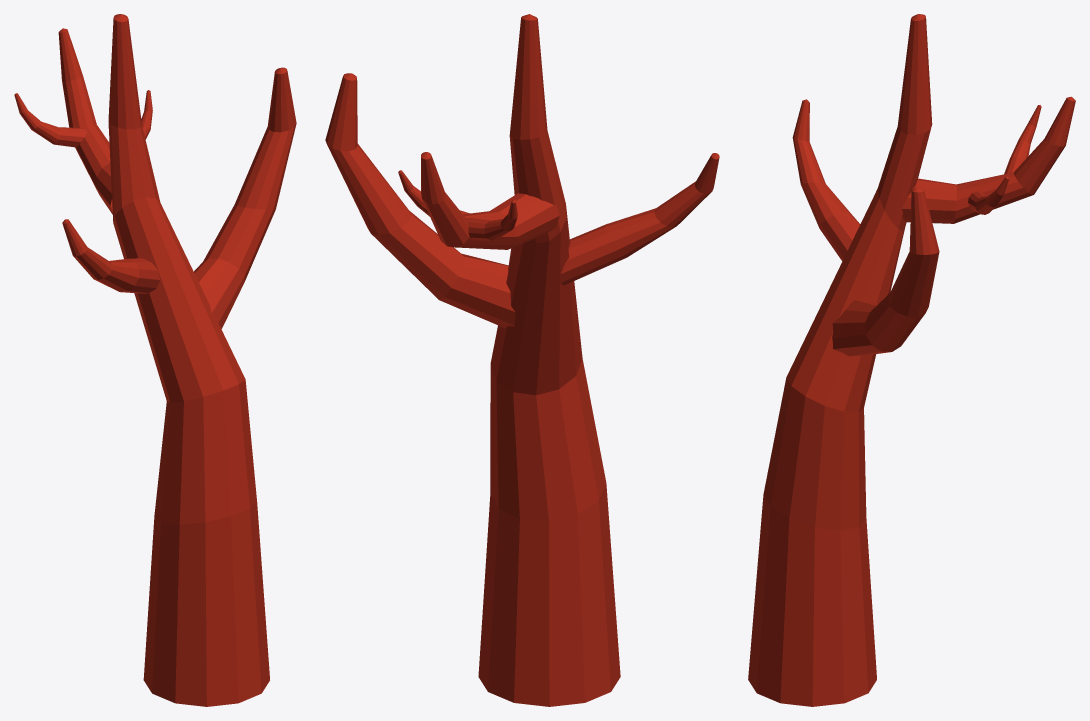
File: Tree_normal2.fbx
3 views of the same model, side by side, from view 1: azimuth 30°, elevation 25°; view 2: azimuth 150°, elevation 25°; view 3: azimuth 270°, elevation 25° (orthographic). The views are drawn at different scales.
Parts seen in each view (by area): view 1: Cylinder.006; view 2: Cylinder.006; view 3: Cylinder.006.
Part boxes in pixels (<box>): Cylinder.006: <box>14,14,296,706</box>; Cylinder.006: <box>325,14,719,706</box>; Cylinder.006: <box>748,14,1075,706</box>.
Size of the model in its own units: 115 by 241 by 110.
